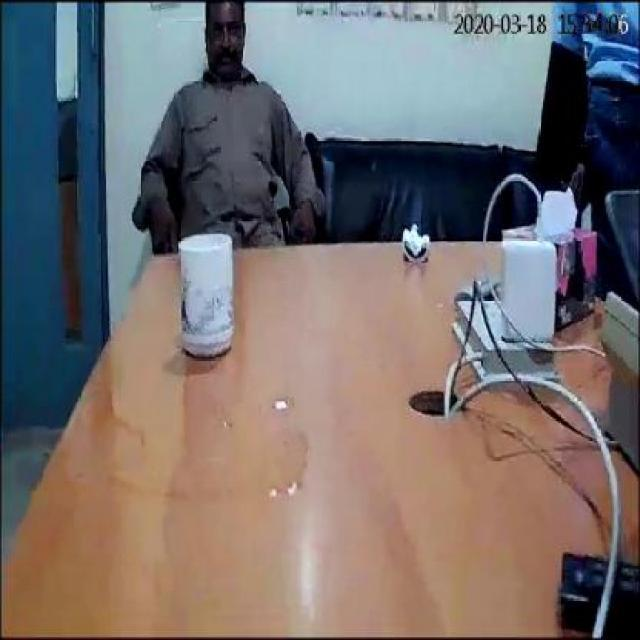spill: (99, 388, 310, 506)
